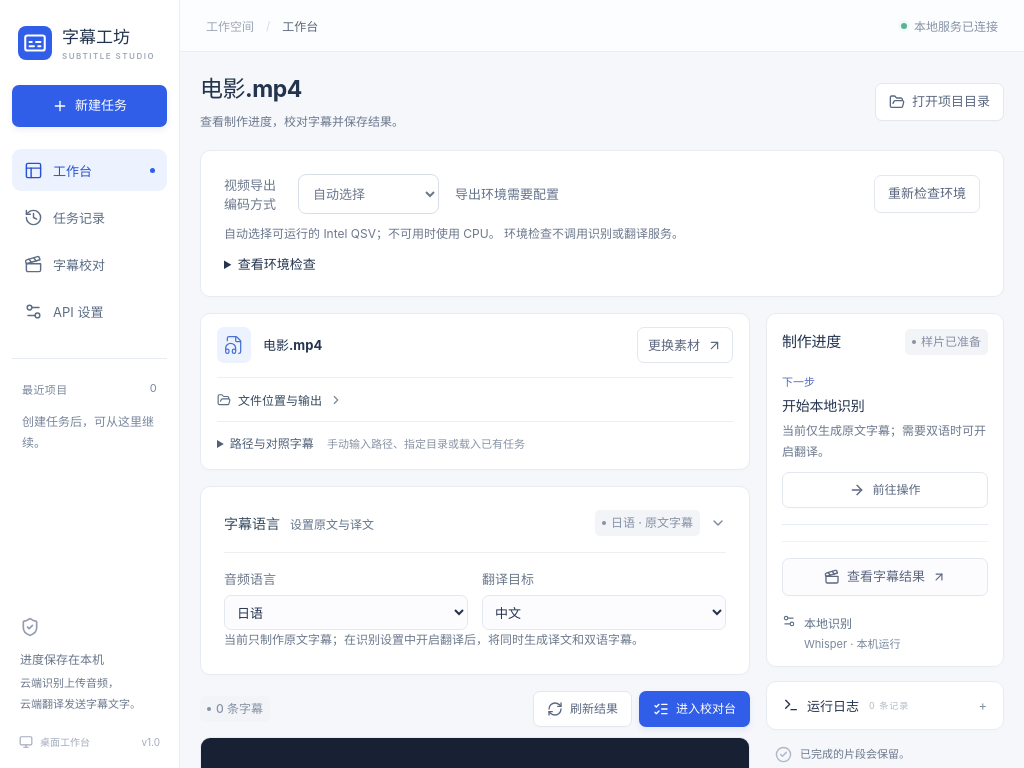
Test: 桌面工作台的真实操作边界 › does not invent a creation timestamp for legacy tasks
The width and height of the screenshot is (1024, 768).
Check: the element "文件位置" is shown, box x1=217 y1=377 x2=733 y2=410
Click the heading "文件位置与输出" at (280, 401), box x1=217 y1=393 x2=343 y2=408
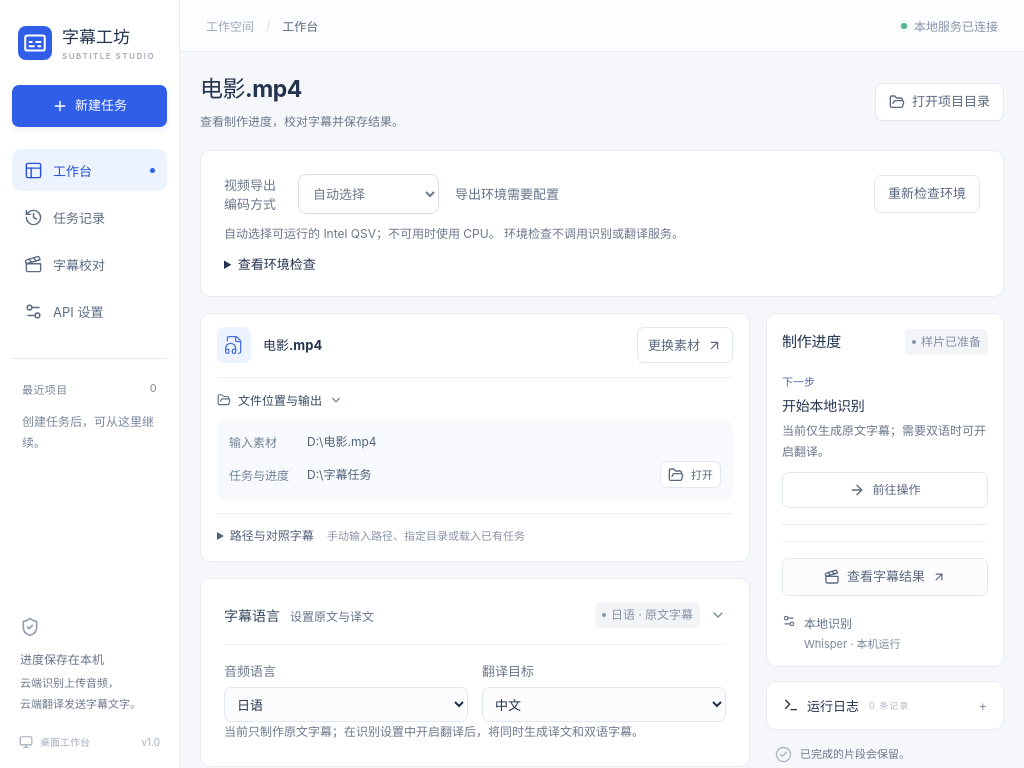
Check: the button with aria-label "打开任务目录" is enabled, box x1=660 y1=462 x2=721 y2=488
